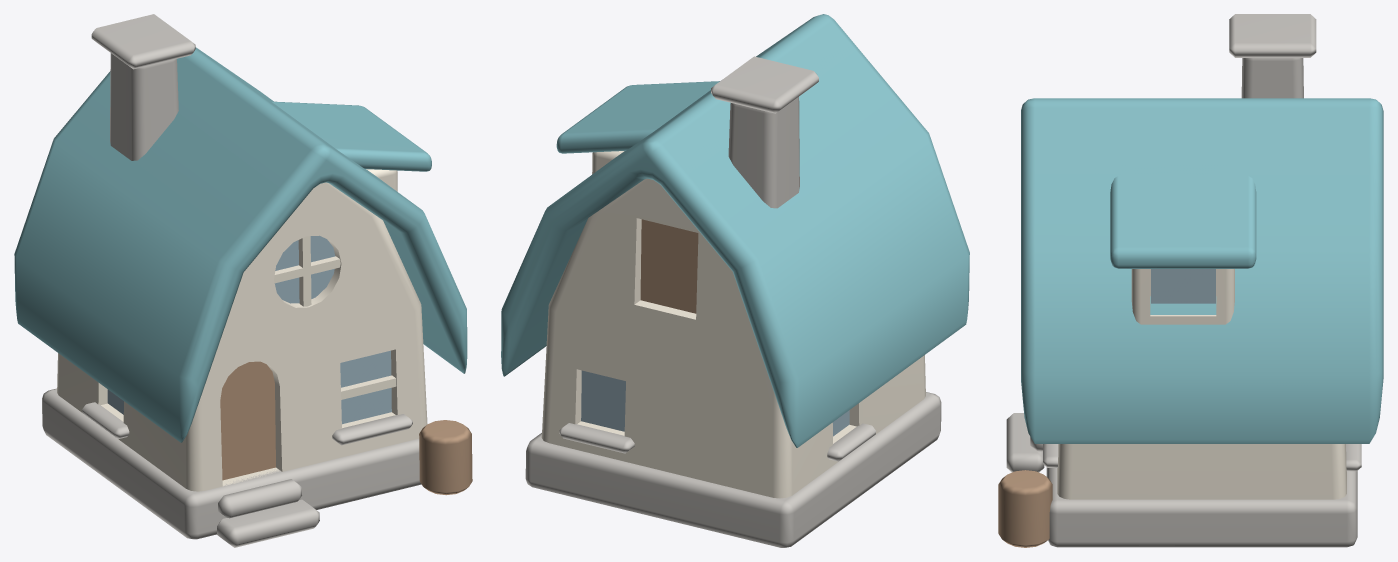
The model's file is chunky_barn.glb.
The picture shows the model from 3 angles, left to right: view 1: azimuth 30°, elevation 25°; view 2: azimuth 150°, elevation 25°; view 3: azimuth 270°, elevation 25°; orthographic projection. The views are drawn at different scales.
Parts seen in each view (by area): view 1: chunky_barn; view 2: chunky_barn; view 3: chunky_barn.
Boxes of the visible parts, bbox=[...] form: chunky_barn: bbox=[14, 14, 472, 547]; chunky_barn: bbox=[501, 14, 969, 547]; chunky_barn: bbox=[998, 14, 1383, 547].
Bounding box in the file's own units: 1.47 × 1.99 × 1.63.
